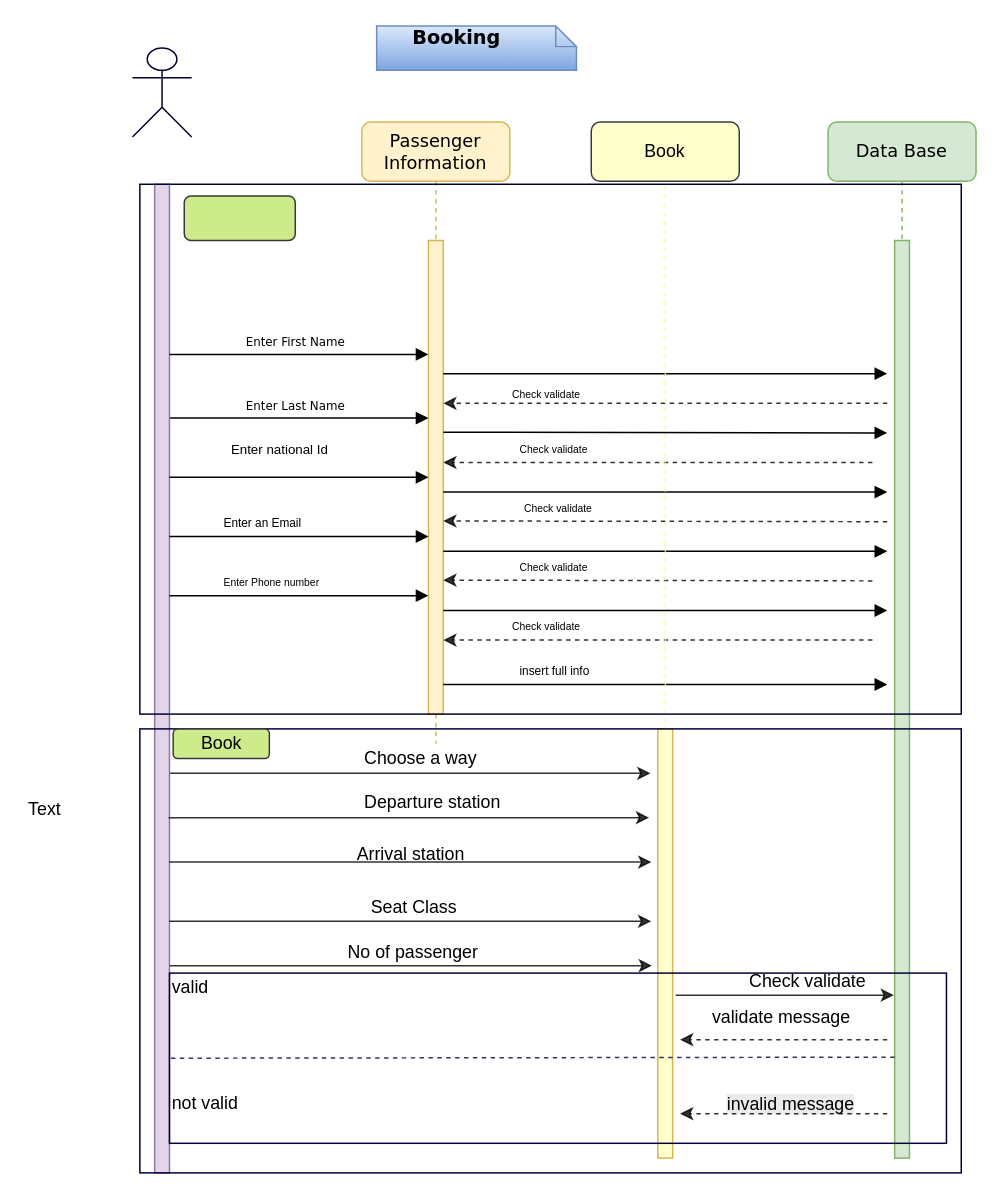
This 1002x1199 diagram has some shape labels left out. Here are the shapes that lost their labels. From the top down, the box of each, then its label:
(131, 47, 192, 137): Passenger
(183, 195, 295, 240): passenger info
